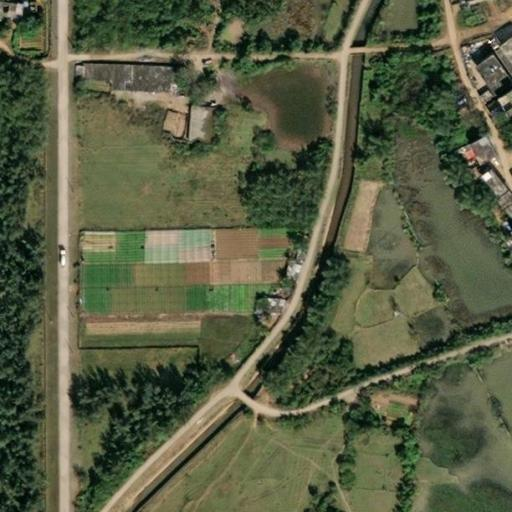building: (77, 57, 175, 93), (465, 48, 505, 90), (183, 99, 215, 142), (490, 27, 512, 68), (461, 130, 488, 159), (473, 162, 499, 191), (489, 76, 512, 102), (486, 46, 508, 72), (261, 291, 285, 313), (488, 189, 507, 208), (495, 202, 512, 222), (504, 220, 512, 236)
